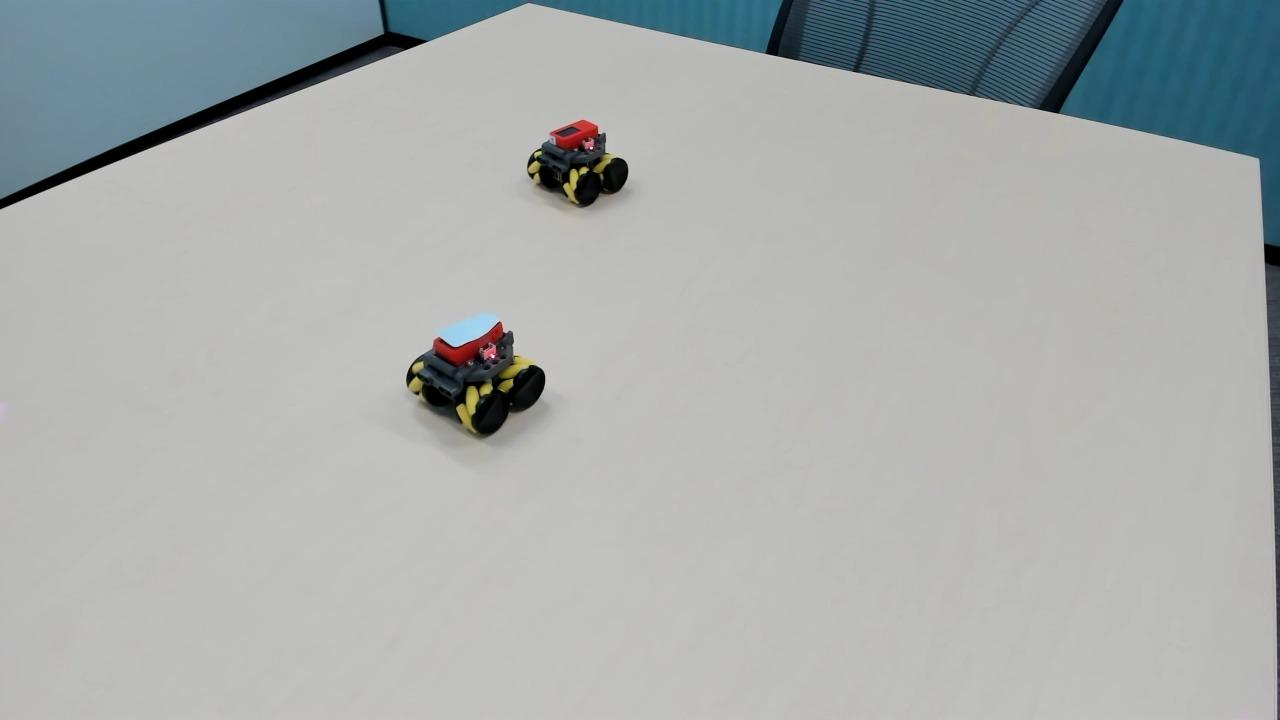B-Robot: (394, 308, 553, 449)
R-Robot: (511, 106, 645, 216), (400, 316, 401, 318)
